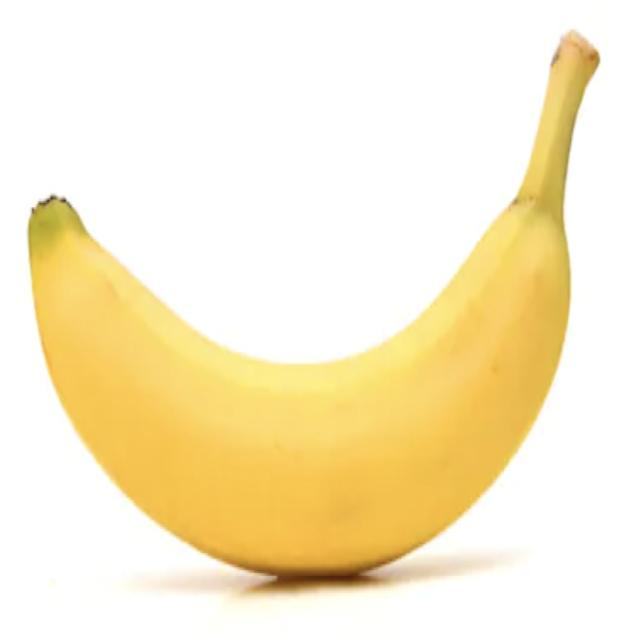fresh-banana: (27, 26, 600, 580)
